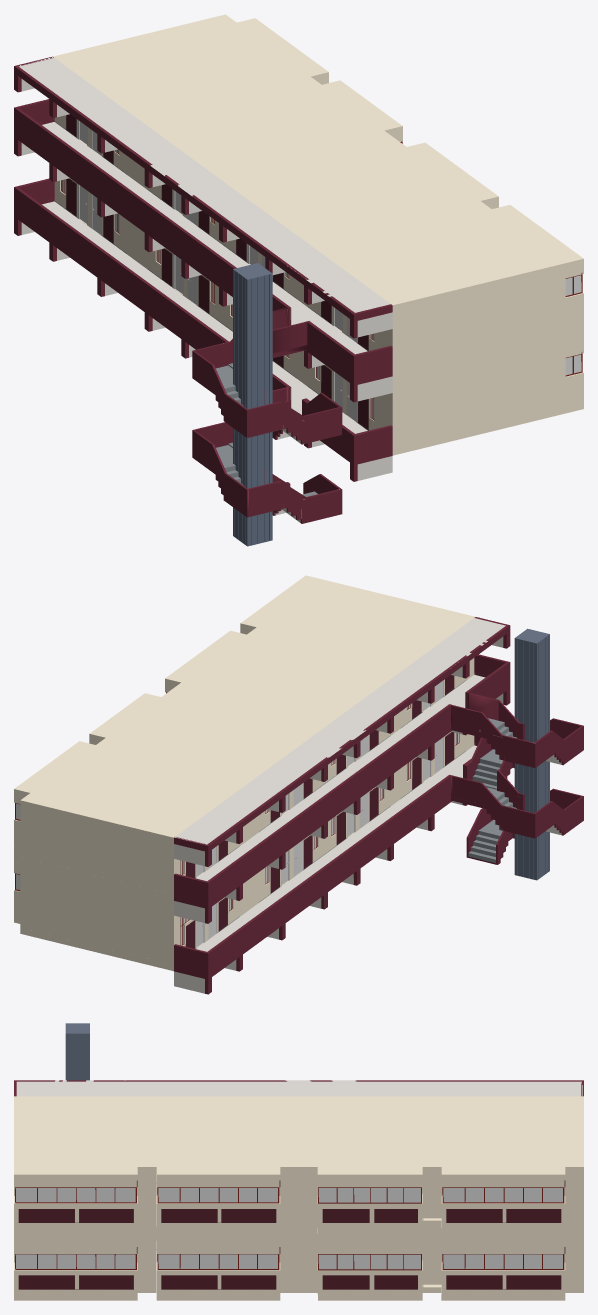
Rendered from epis.fbx.
3 renders of one model, top to bottom at view 1: azimuth 30°, elevation 25°; view 2: azimuth 150°, elevation 25°; view 3: azimuth 270°, elevation 25°, orthographic. The views are drawn at different scales.
Parts seen in each view (by area): view 1: Balcon.002, Cube.086, Balcon, Cube.063, Cube.013, Cube.031, Balcon.001, Baranda.005, Cube.161, Cube.077, Cube.008, Cube.171 (+7 smaller); view 2: Balcon, Balcon.002, Cube.013, Balcon.001, Baranda.005, Cube.086, Cube.063, Cube.031, Cube, Cube.104, Cube.008, Cube.171 (+11 smaller); view 3: Cube.063, Cube.013, Cube.086, Cube.031, Balcon.002, Cube.057, Cube.006, Cube.080, Cube.171, Cube.142, Cube.101, Cube.164 (+41 smaller).
Part boxes in pixels (x1,y1,x2,y2): Balcon.002: (14,56,392,338); Cube.086: (308,201,583,312); Balcon: (14,99,392,402); Cube.063: (223,139,498,242); Cube.013: (53,14,328,118); Cube.031: (138,76,402,180); Balcon.001: (14,178,392,481); Baranda.005: (192,308,342,523); Cube.161: (391,349,565,448); Cube.077: (391,270,565,369); Cube.008: (233,263,272,546); Cube.171: (392,329,583,384); Balcon: (174,654,510,923); Balcon.002: (174,617,510,866); Cube.013: (14,741,248,843); Balcon.001: (174,736,510,994); Baranda.005: (451,692,583,864); Cube.086: (240,575,475,671); Cube.063: (165,630,399,727); Cube.031: (89,690,324,782); Cube: (20,806,171,893); Cube.104: (20,877,171,964); Cube.008: (514,628,549,880); Cube.171: (14,852,173,907); Cube.063: (156,1096,298,1180); Cube.013: (441,1096,583,1180); Cube.086: (14,1096,156,1180); Cube.031: (299,1096,441,1180); Balcon.002: (14,1080,583,1096); Cube.057: (156,1180,280,1228); Cube.006: (441,1180,565,1228); Cube.080: (14,1180,137,1228); Cube.171: (14,1184,583,1240); Cube.142: (156,1247,280,1294); Cube.101: (441,1247,565,1294); Cube.164: (14,1247,137,1294).
Bounding box in the file's own units: 1674 × 1313 × 3032.
Materials: 21 (19 with a texture image).
